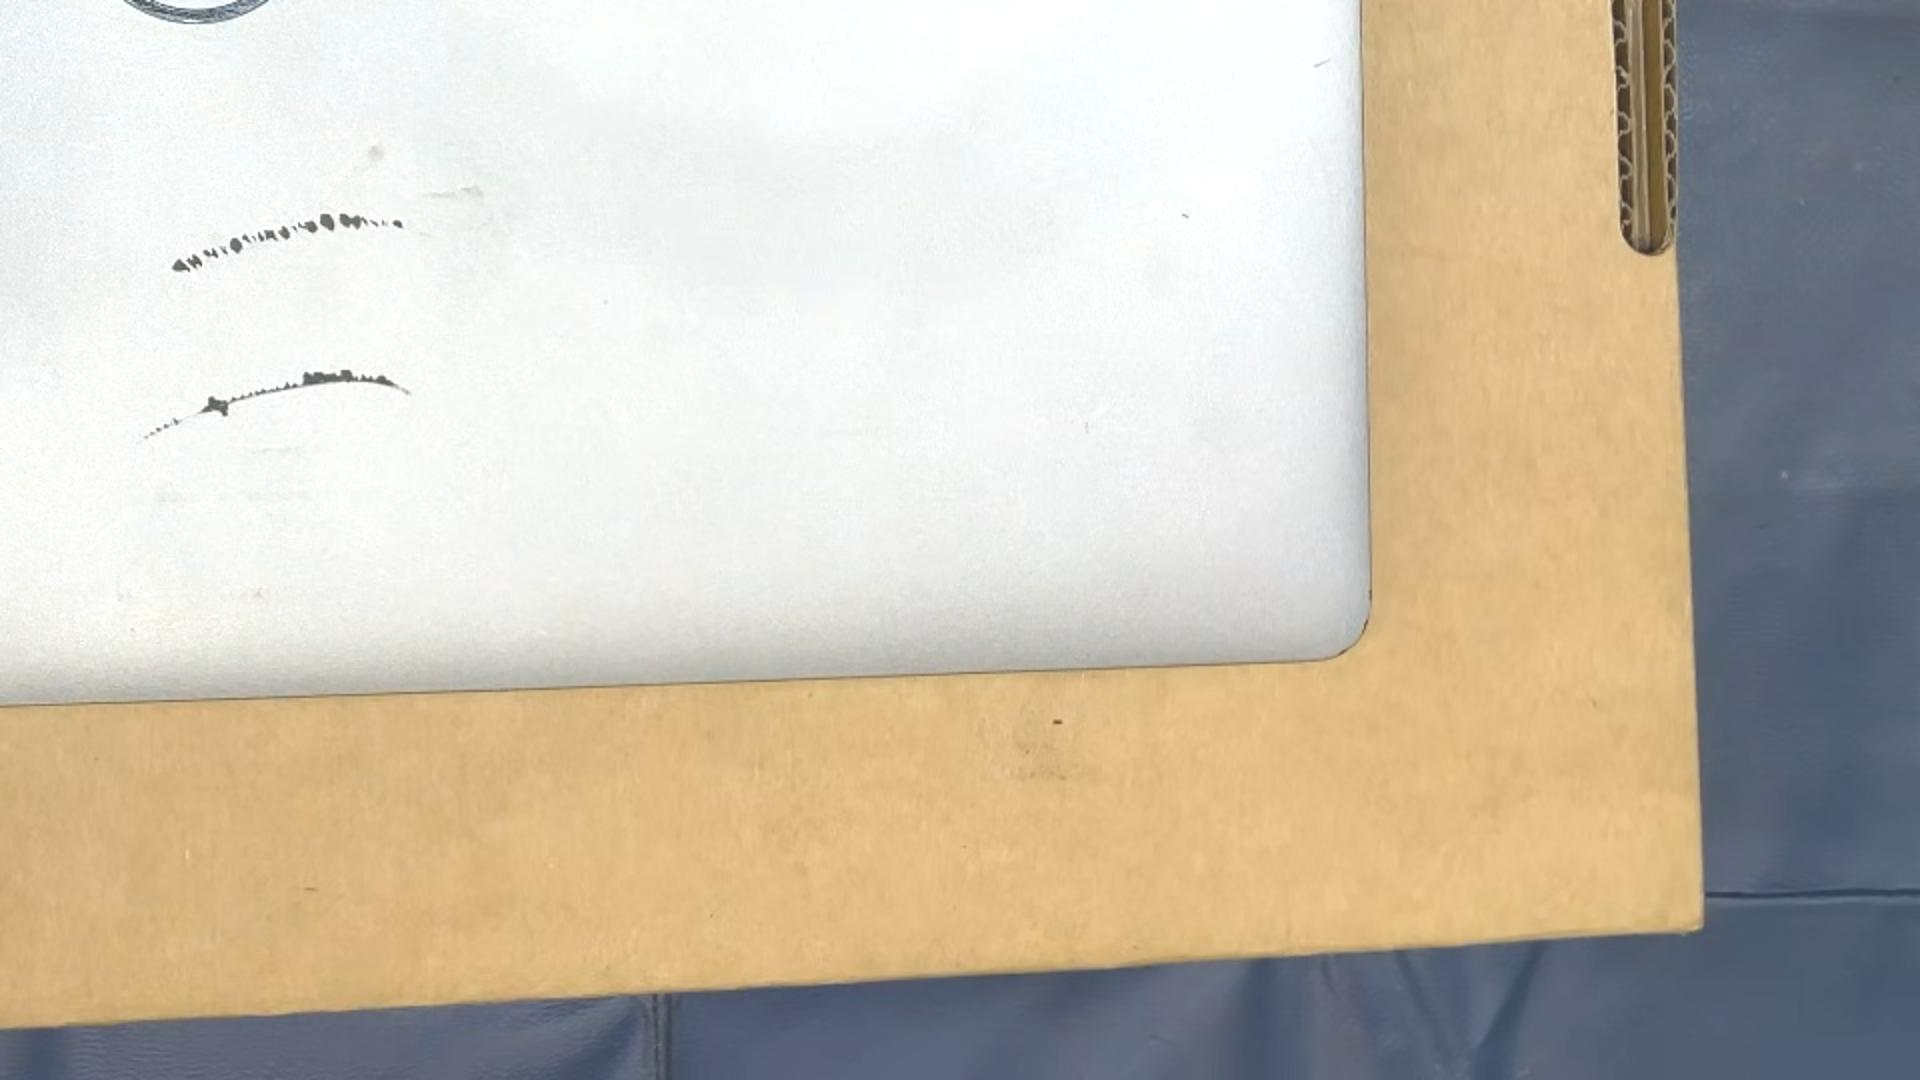chip: (302, 369, 360, 386), (199, 394, 229, 418), (339, 214, 368, 231), (170, 258, 193, 273), (186, 253, 204, 269), (319, 214, 335, 232), (298, 219, 318, 233), (376, 375, 397, 388), (229, 236, 243, 255), (278, 225, 291, 241), (264, 229, 280, 243), (200, 248, 220, 257), (392, 219, 404, 229)
scratches: (140, 376, 418, 440), (170, 219, 406, 274), (1311, 57, 1333, 70), (1180, 212, 1191, 220)
